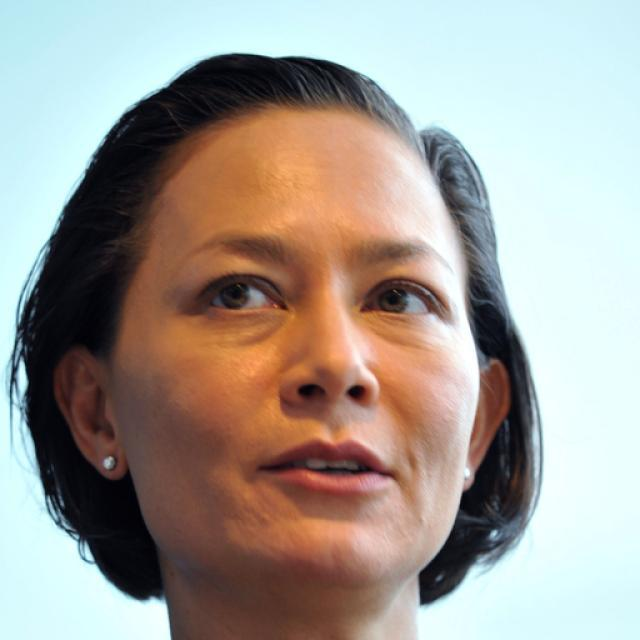neutral: (119, 107, 479, 582)
